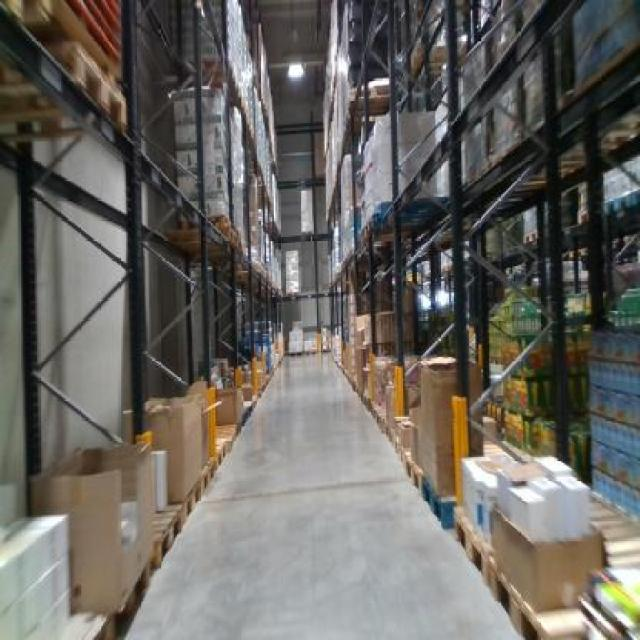ground: (120, 354, 524, 638)
pallet: (487, 558, 588, 638), (41, 41, 126, 129), (452, 500, 490, 586), (114, 552, 152, 630), (83, 614, 118, 638)
